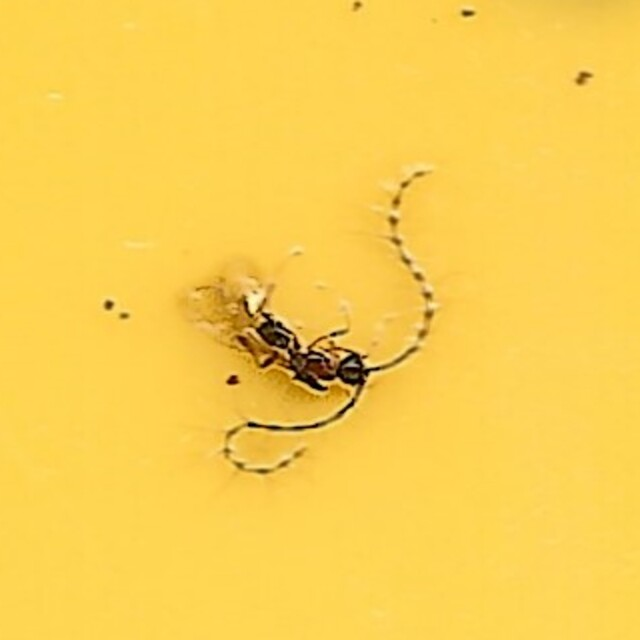Hymenoptera: (200, 165, 440, 475)
